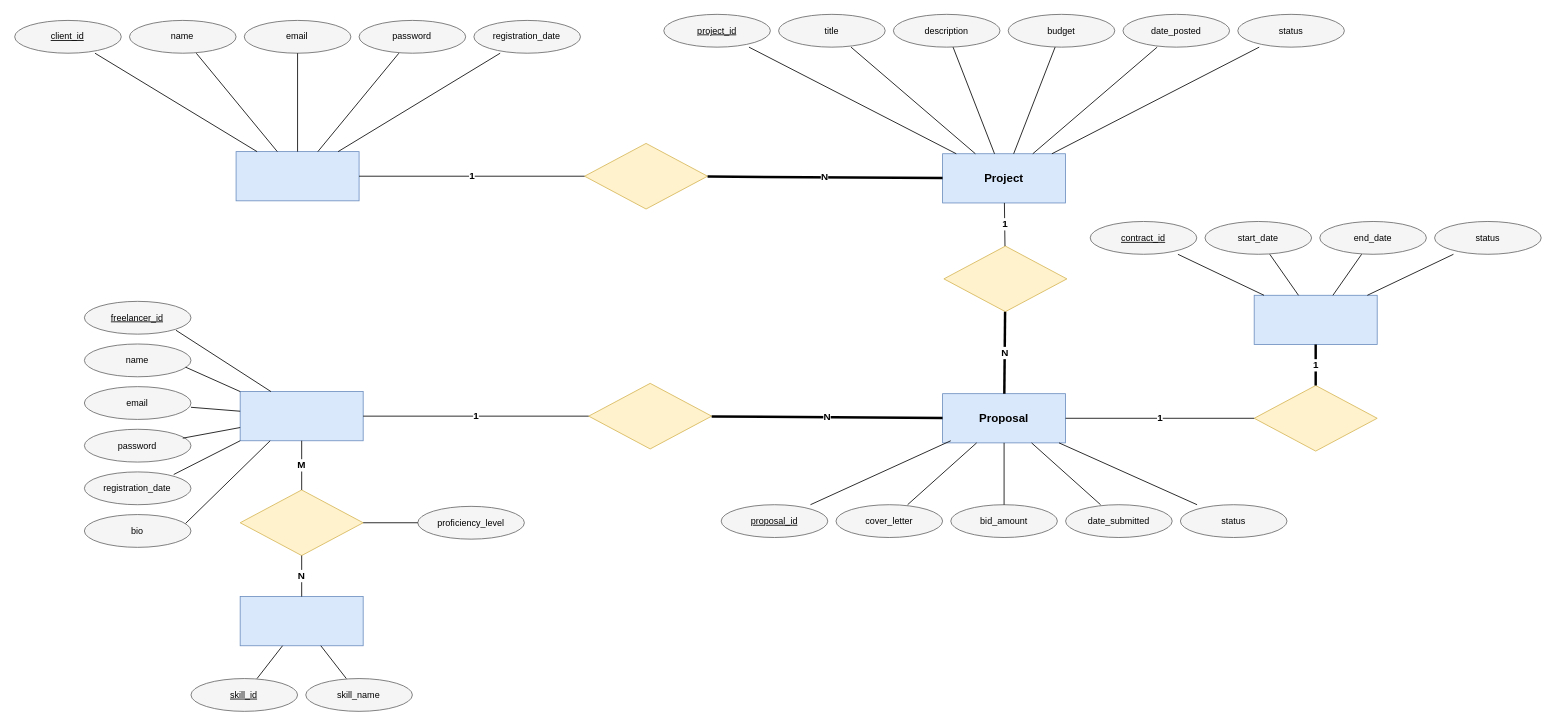
The diagram is 1556 pixels wide and 726 high, and some of its shapes have lost their labels. Here are the shapes that lost their labels. From the top down, the box of each, then its label:
(235, 151, 359, 201): Client
(584, 143, 708, 209): Posts
(943, 245, 1067, 312): Receives
(1253, 294, 1377, 344): Contract
(239, 391, 363, 441): Freelancer
(588, 383, 712, 449): Submits
(1253, 385, 1377, 451): LeadsTo
(239, 489, 363, 556): HasSkill
(239, 596, 363, 646): Skill
